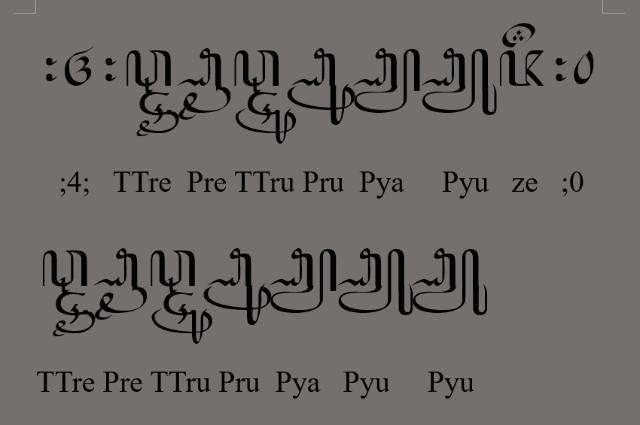0: (574, 50, 594, 86)
4: (64, 45, 94, 87)
T: (126, 49, 172, 93), (233, 49, 279, 93), (42, 249, 88, 293), (150, 249, 196, 293)
_Pre: (176, 47, 232, 121), (94, 248, 148, 322)
_Pru: (202, 248, 272, 326), (287, 47, 355, 125)
_Py: (268, 248, 338, 313), (354, 48, 421, 114)
_Pyu: (422, 48, 498, 116), (338, 248, 414, 316), (412, 248, 488, 316)
_Tre: (136, 91, 180, 137), (52, 292, 96, 338)
_Tru: (236, 91, 298, 145), (152, 293, 214, 345)
apit: (104, 56, 118, 82), (554, 56, 568, 82), (44, 57, 58, 82)
ealt: (500, 22, 536, 48)
j: (500, 49, 546, 89)
